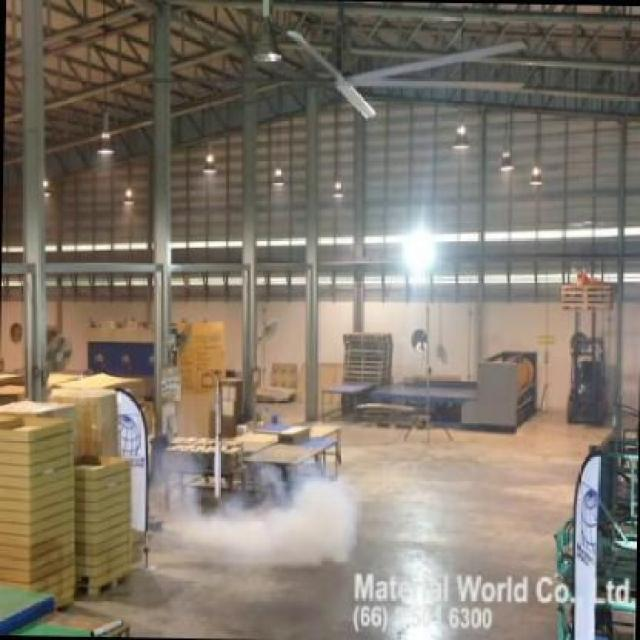fire: (183, 468, 364, 570)
